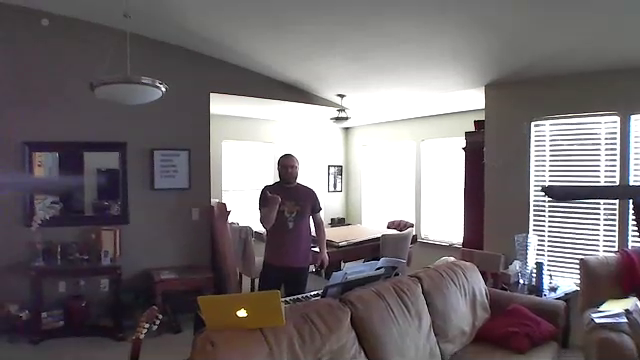land: (259, 189, 283, 202)
